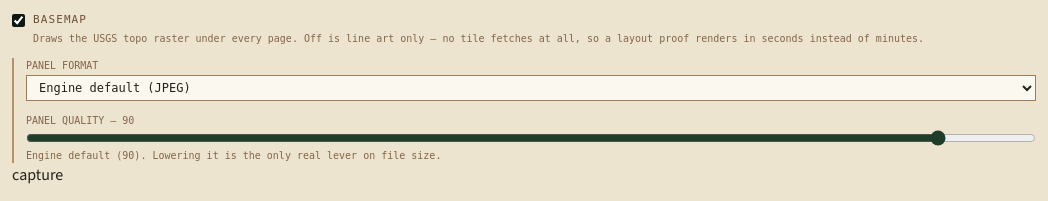
it: BasemapOptions reaches the request › shows what the quality costs, next to the control that costs it
Check: the text with test id "quality-cost" shows "Engine default (90)", box [26, 150, 441, 160]
Set the slider labelled "Panel quality — 90" to "70" at (727, 138), box [26, 130, 1036, 146]
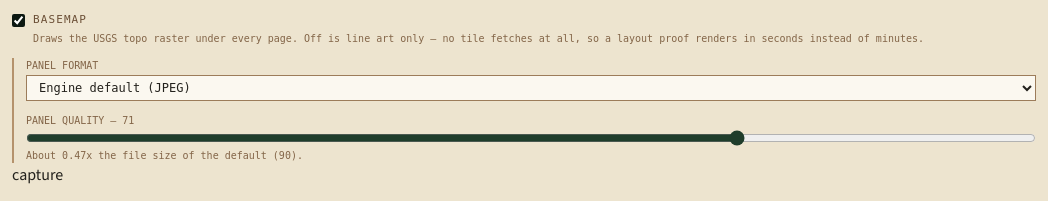
Check: the text with test id "quality-cost" reads "About 0.47x the file size of the default (90).", box [26, 150, 303, 160]
